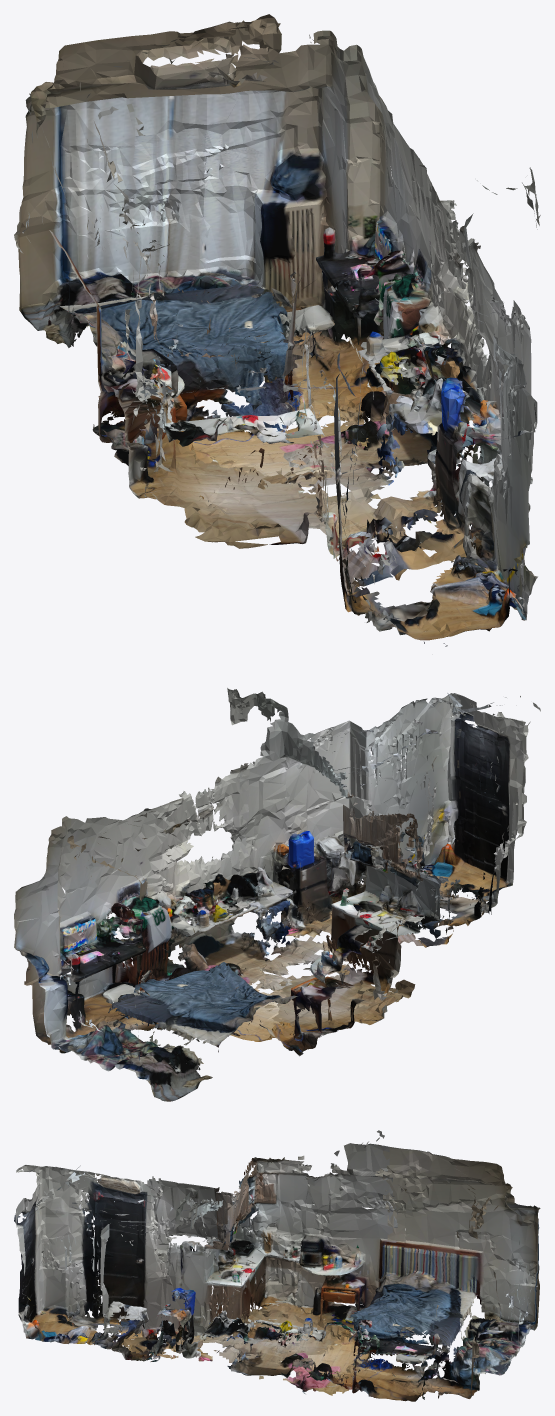
The picture shows the model from 3 angles, top to bottom: view 1: azimuth 30°, elevation 25°; view 2: azimuth 150°, elevation 25°; view 3: azimuth 270°, elevation 25°; orthographic projection. The views are drawn at different scales.
Visible parts, largest first — view 1: node_0, node_1; view 2: node_1, node_0; view 3: node_1, node_0.
Part boxes in pixels (left/top/right/bottom): node_0: left=14, top=14, right=538, bottom=499; node_1: left=87, top=103, right=540, bottom=646; node_1: left=230, top=689, right=540, bottom=1054; node_0: left=14, top=688, right=303, bottom=1101; node_1: left=14, top=1130, right=397, bottom=1368; node_0: left=188, top=1144, right=540, bottom=1401.
Size of the model in its own units: 4.1 by 3.44 by 8.05.
Materials: 2 (2 with a texture image).
